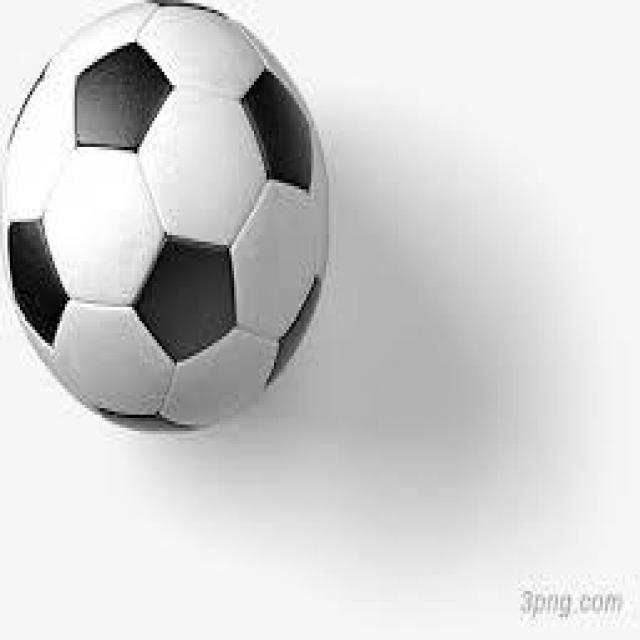Soccer Ball: (3, 0, 326, 431)
